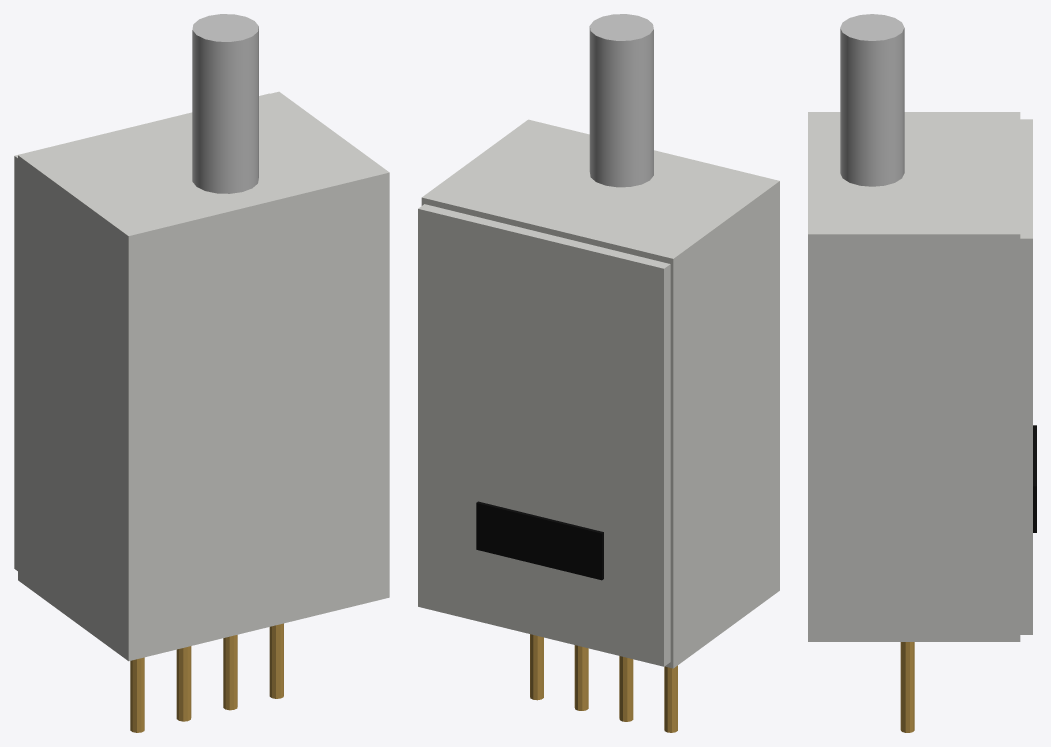
File: fixture.boiler.glb
3 renders of one model, left to right at view 1: azimuth 30°, elevation 25°; view 2: azimuth 150°, elevation 25°; view 3: azimuth 270°, elevation 25°, orthographic. The views are drawn at different scales.
Visible parts, largest first — view 1: case__paint_white, doors__steel_stainless, doors__brass, doors__paint_white; view 2: doors__paint_white, case__paint_white, doors__steel_stainless, doors__plastic_black, doors__brass; view 3: case__paint_white, doors__steel_stainless, doors__paint_white, doors__brass, doors__plastic_black.
Part boxes in pixels (x1,y1,x2,y2): case__paint_white: [18, 91, 389, 661]; doors__steel_stainless: [192, 14, 258, 193]; doors__brass: [130, 623, 283, 732]; doors__paint_white: [14, 93, 269, 570]; doors__paint_white: [418, 204, 670, 666]; case__paint_white: [421, 119, 779, 668]; doors__steel_stainless: [589, 14, 653, 187]; doors__plastic_black: [476, 501, 603, 580]; doors__brass: [530, 634, 677, 732]; case__paint_white: [808, 112, 1020, 641]; doors__steel_stainless: [840, 14, 904, 186]; doors__paint_white: [1020, 119, 1032, 634]; doors__brass: [900, 642, 914, 732]; doors__plastic_black: [1033, 425, 1036, 532].
Bounding box in the file's own units: 0.45 × 1.15 × 0.356.
